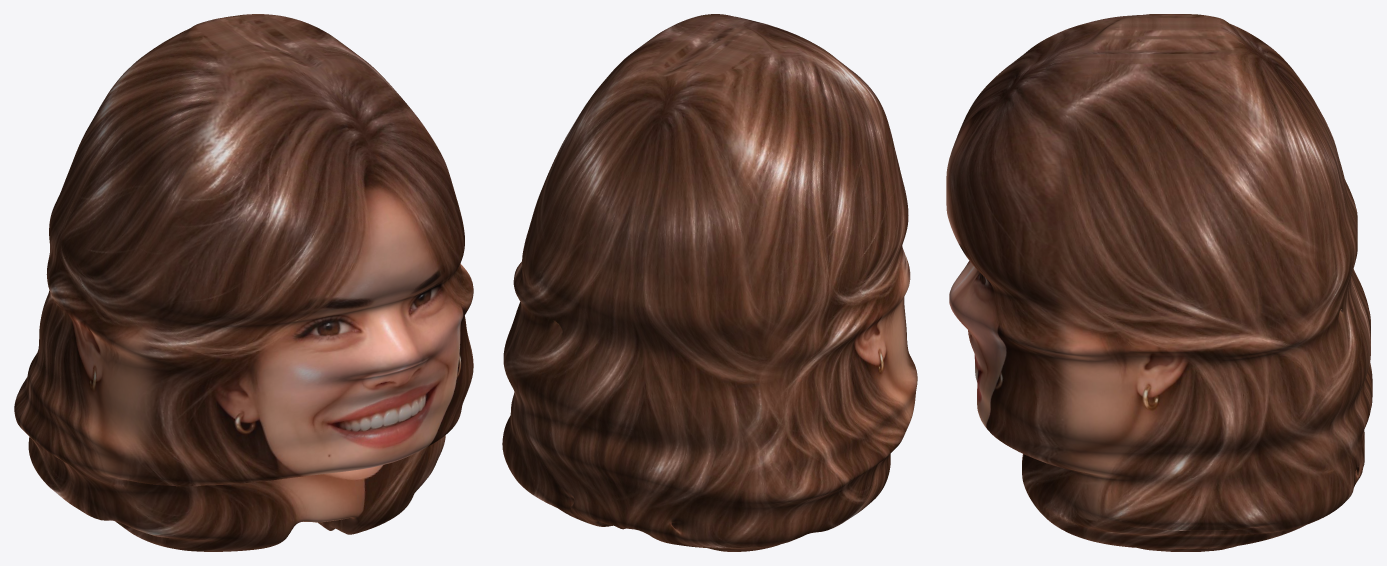
File: head.glb
The picture shows the model from 3 angles, left to right: view 1: azimuth 30°, elevation 25°; view 2: azimuth 150°, elevation 25°; view 3: azimuth 270°, elevation 25°; orthographic projection. The views are drawn at different scales.
Visible parts, largest first — view 1: world; view 2: world; view 3: world.
Part boxes in pixels (x1,y1,x2,y2): world: [14, 14, 473, 551]; world: [502, 14, 917, 551]; world: [946, 14, 1372, 551].
Bounding box in the file's own units: 0.2377 × 0.3 × 0.2415.
1 material, 1 textured.
